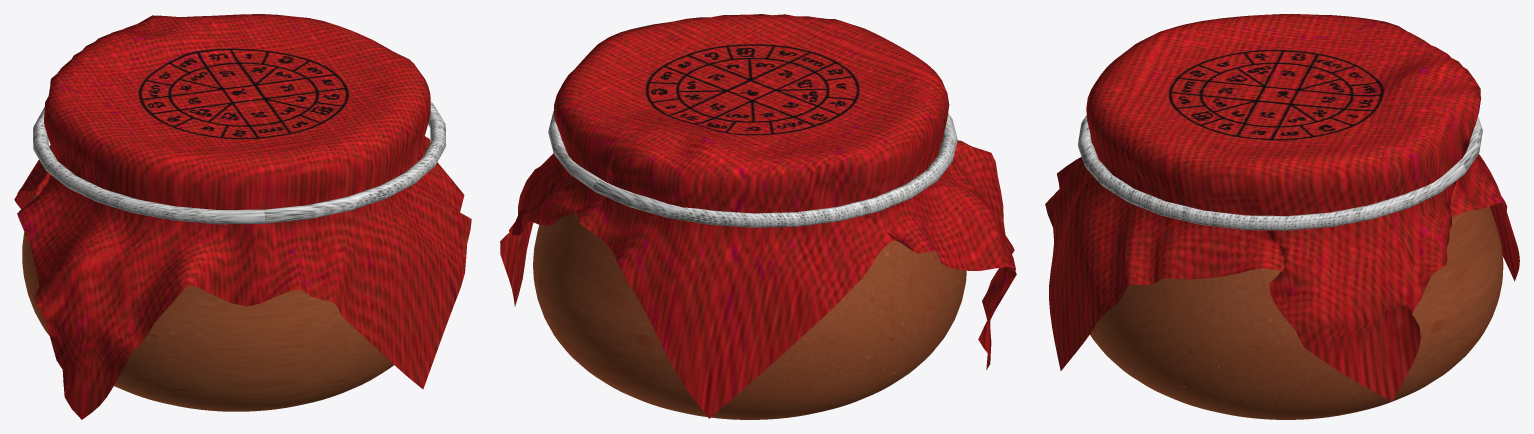
The model's file is e4ghostjar.glb.
3 renders of one model, left to right at view 1: azimuth 30°, elevation 25°; view 2: azimuth 150°, elevation 25°; view 3: azimuth 270°, elevation 25°, orthographic.
Parts seen in each view (by area): view 1: figure; view 2: figure; view 3: figure.
Part boxes in pixels (left/top/right/bottom): figure: left=14, top=14, right=471, bottom=419; figure: left=500, top=14, right=1016, bottom=419; figure: left=1045, top=14, right=1519, bottom=419.
Bounding box in the file's own units: 0.2428 × 0.16 × 0.2253.
Materials: 1 (1 with a texture image).
